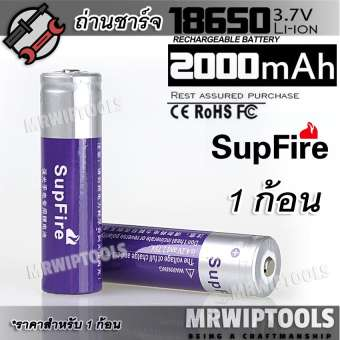Battery: (37, 64, 105, 297), (101, 222, 283, 300)
